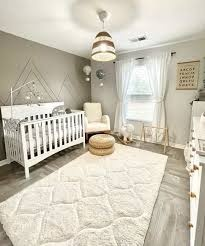crib: (1, 102, 84, 177)
